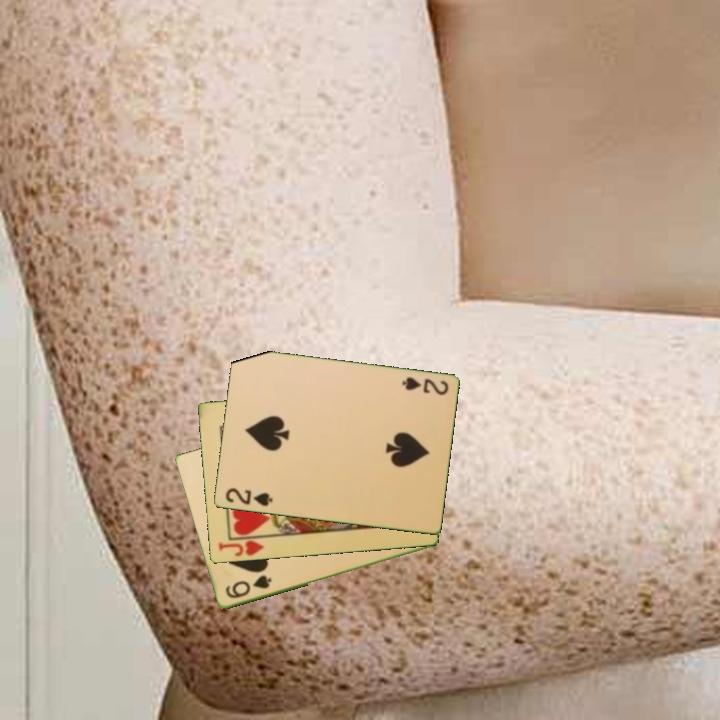2s: (222, 485, 275, 509), (398, 374, 451, 398)
6s: (222, 572, 274, 602)
Jh: (215, 537, 266, 559)
